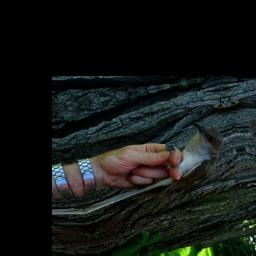Cuckoo: (64, 116, 240, 220)
